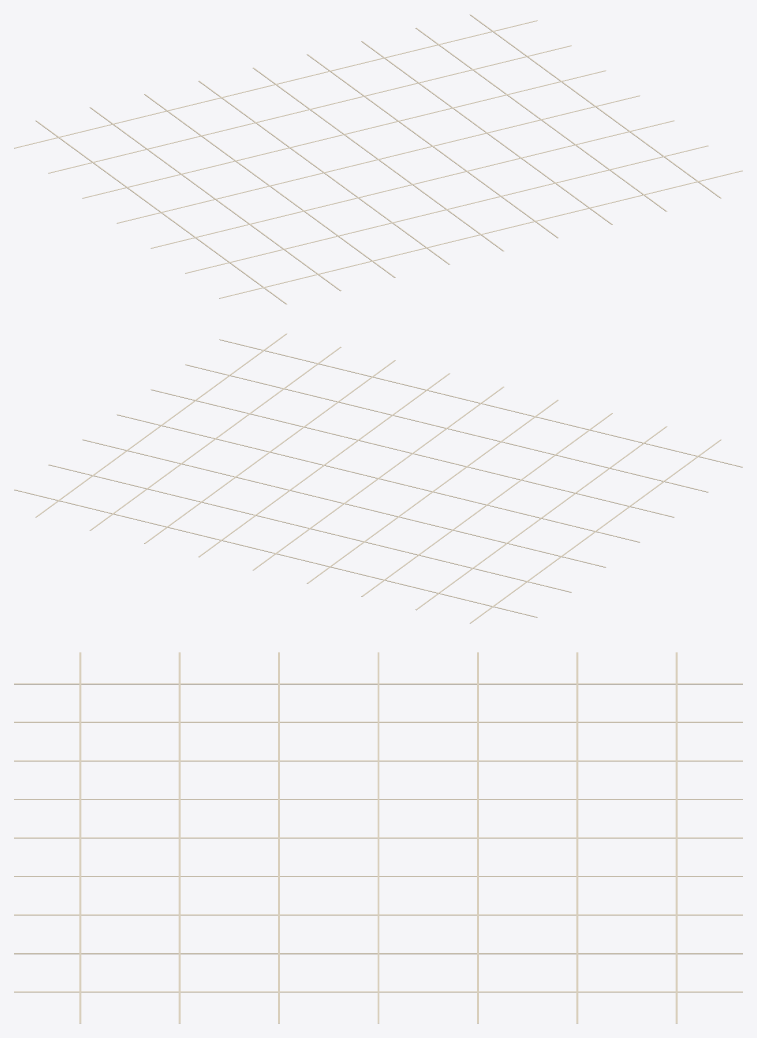
3 views of the same model, one above another, from view 1: azimuth 30°, elevation 25°; view 2: azimuth 150°, elevation 25°; view 3: azimuth 270°, elevation 25° (orthographic). The views are drawn at different scales.
Visible parts, largest first — view 1: Grout Y.006, Grout Y.004, Grout Y.005, Grout Y.003, Grout Y, Grout Y.001, Grout Y.002, Grout X.003, Grout X.007, Grout X.008, Grout X.004, Grout X (+4 smaller); view 2: Grout Y.006, Grout Y.003, Grout Y.005, Grout Y.004, Grout Y, Grout Y.002, Grout Y.001, Grout X.008, Grout X, Grout X.004, Grout X.003, Grout X.007 (+4 smaller); view 3: Grout X.004, Grout X.006, Grout X.008, Grout X.002, Grout X.001, Grout X, Grout X.007, Grout Y.005, Grout Y.006, Grout Y.003, Grout Y, Grout Y.001 (+4 smaller).
Boxes of the visible parts, left/top/right/bottom form: Grout Y.006: left=14, top=20, right=537, bottom=148; Grout Y.004: left=82, top=70, right=605, bottom=198; Grout Y.005: left=48, top=45, right=571, bottom=173; Grout Y.003: left=117, top=95, right=639, bottom=223; Grout Y: left=219, top=170, right=742, bottom=298; Grout Y.001: left=185, top=145, right=708, bottom=273; Grout Y.002: left=151, top=120, right=674, bottom=248; Grout X.003: left=198, top=80, right=449, bottom=264; Grout X.007: left=415, top=27, right=667, bottom=211; Grout X.008: left=470, top=14, right=721, bottom=198; Grout X.004: left=253, top=67, right=503, bottom=251; Grout X: left=35, top=120, right=286, bottom=304; Grout Y.006: left=14, top=489, right=537, bottom=617; Grout Y.003: left=117, top=414, right=639, bottom=542; Grout Y.005: left=48, top=464, right=571, bottom=592; Grout Y.004: left=82, top=439, right=605, bottom=567; Grout Y: left=219, top=339, right=742, bottom=467; Grout Y.002: left=151, top=389, right=674, bottom=517; Grout Y.001: left=185, top=364, right=708, bottom=492; Grout X.008: left=35, top=333, right=286, bottom=517; Grout X: left=470, top=439, right=721, bottom=623; Grout X.004: left=253, top=386, right=503, bottom=570; Grout X.003: left=307, top=399, right=558, bottom=583; Grout X.007: left=89, top=346, right=341, bottom=530; Grout X.004: left=14, top=837, right=742, bottom=838; Grout X.006: left=14, top=914, right=742, bottom=915; Grout X.008: left=14, top=991, right=742, bottom=992; Grout X.002: left=14, top=760, right=742, bottom=761; Grout X.001: left=14, top=721, right=742, bottom=722; Grout X: left=14, top=683, right=742, bottom=684; Grout X.007: left=14, top=953, right=742, bottom=954; Grout Y.005: left=576, top=652, right=578, bottom=1023; Grout Y.006: left=675, top=652, right=677, bottom=1023; Grout Y.003: left=377, top=652, right=379, bottom=1023; Grout Y: left=79, top=652, right=81, bottom=1023; Grout Y.001: left=178, top=652, right=180, bottom=1023.
Bounding box in the file's own units: 530 × 0.3001 × 440.
